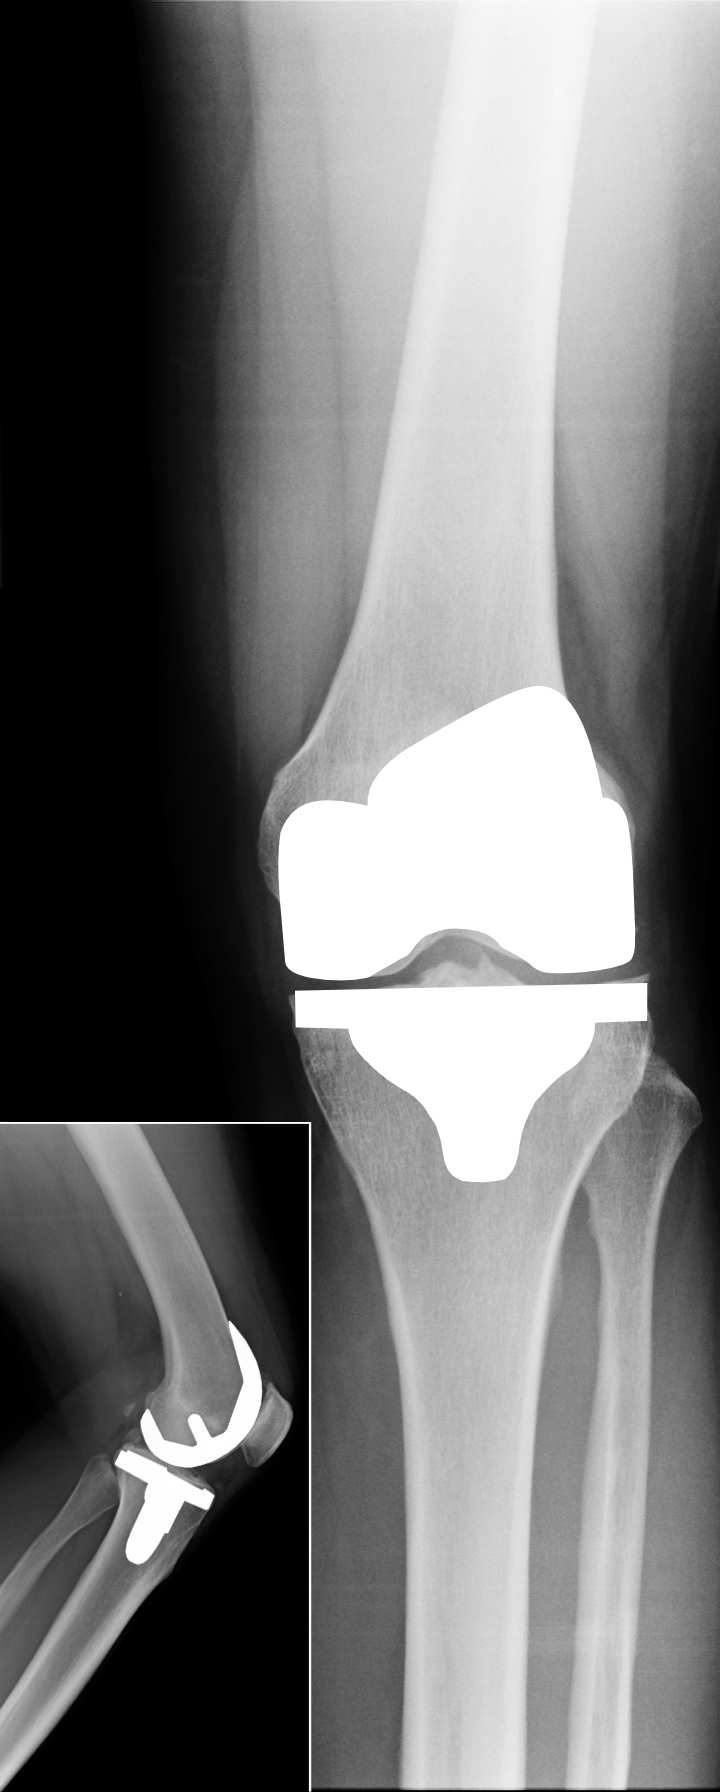Knee-Triathlon-Stryker: (255, 693, 649, 1190), (96, 1317, 262, 1568)
